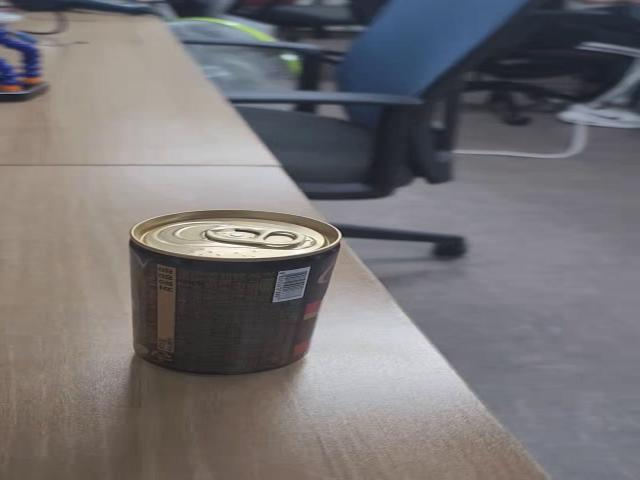Canned_drinks: (131, 204, 337, 384)
